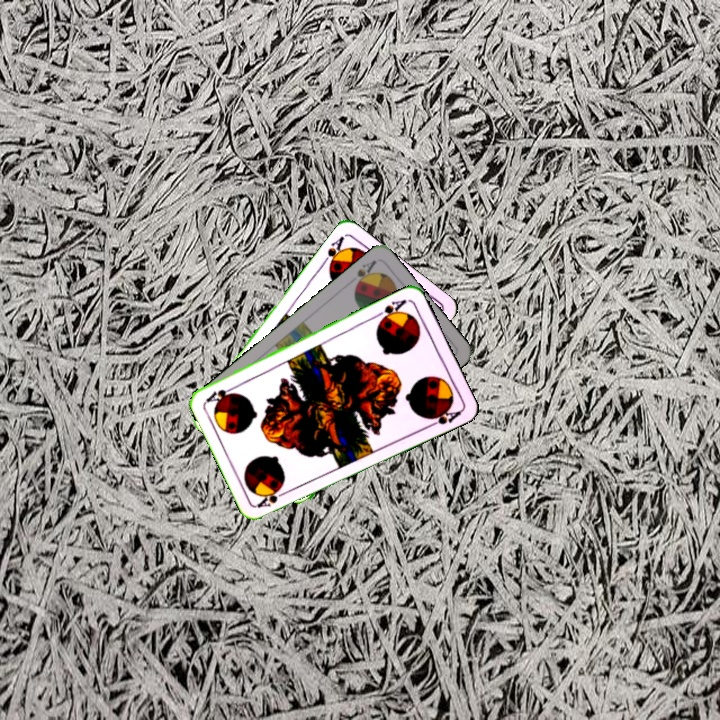SA: (318, 232, 348, 271), (372, 295, 409, 325), (350, 256, 379, 292), (253, 485, 292, 511)
